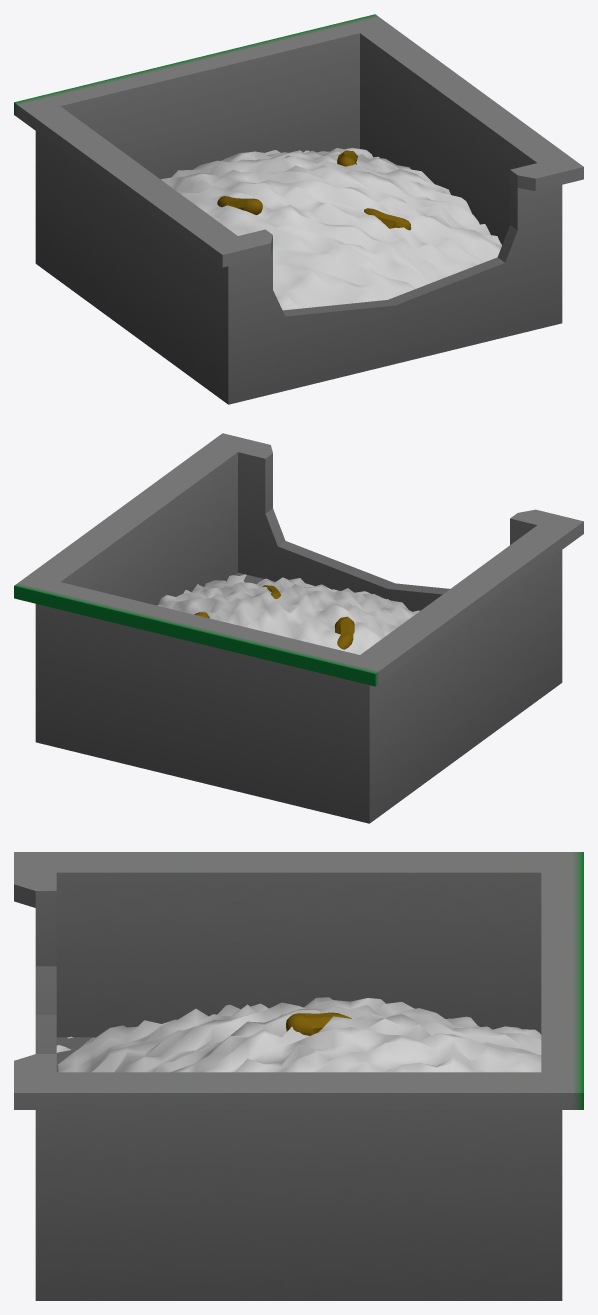
File: Litterbox.fbx
3 renders of one model, top to bottom at view 1: azimuth 30°, elevation 25°; view 2: azimuth 150°, elevation 25°; view 3: azimuth 270°, elevation 25°, orthographic. The views are drawn at different scales.
Visible parts, largest first — view 1: Litterbox; view 2: Litterbox; view 3: Litterbox.
Boxes of the visible parts, x1,y1,x2,y2 form: Litterbox: (14,14,583,404); Litterbox: (14,433,583,823); Litterbox: (14,852,583,1300).
Bounding box in the file's own units: 0.5972 × 0.2509 × 0.5972.
